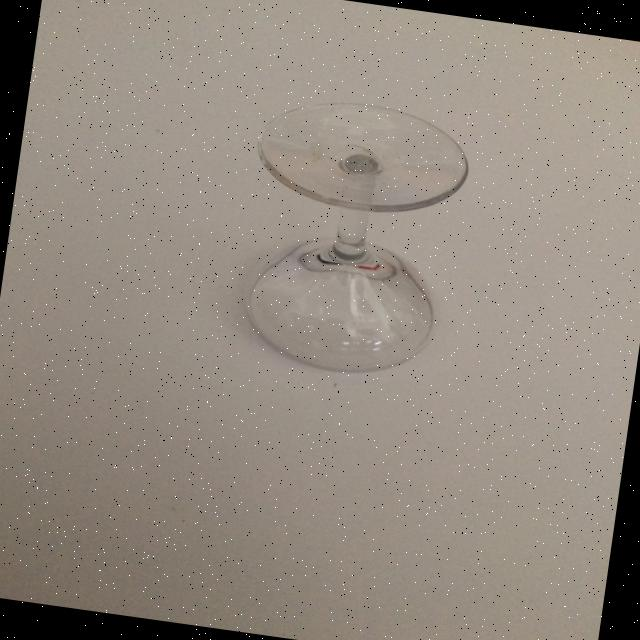glass: (227, 88, 476, 386)
